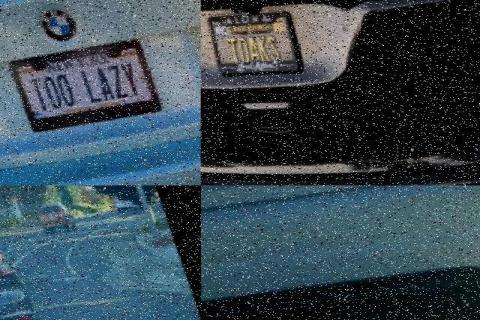LicensePlate: (2, 42, 157, 134), (202, 3, 302, 85), (208, 186, 308, 220), (0, 282, 19, 306), (46, 220, 52, 223)
